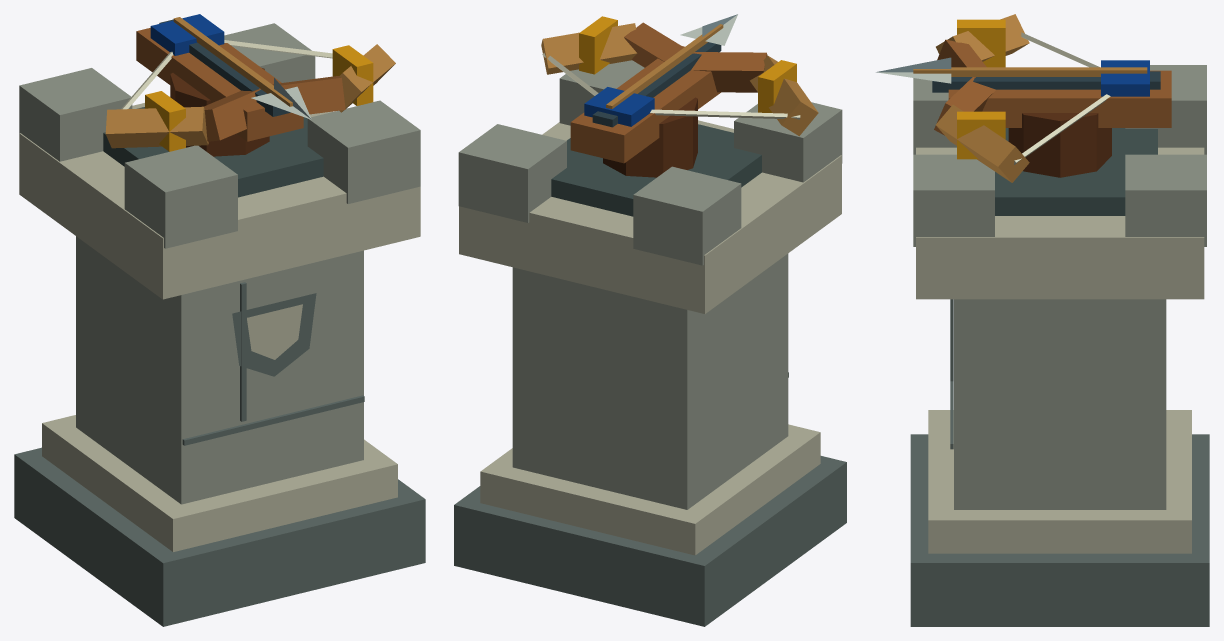
Rendered from tower.fbx.
The picture shows the model from 3 angles, left to right: view 1: azimuth 30°, elevation 25°; view 2: azimuth 150°, elevation 25°; view 3: azimuth 270°, elevation 25°; orthographic projection. The views are drawn at different scales.
Parts seen in each view (by area): view 1: tower; view 2: tower; view 3: tower.
Boxes of the visible parts, x1,y1,x2,y2 form: tower: (14, 14, 425, 626); tower: (454, 14, 846, 626); tower: (876, 14, 1209, 626).
Bounding box in the file's own units: 1.24 × 2.05 × 1.23.
